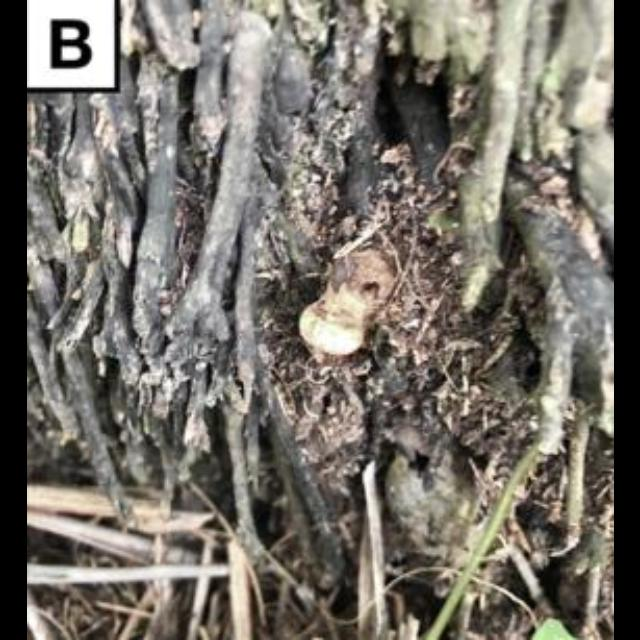primordium: (298, 290, 375, 358)
